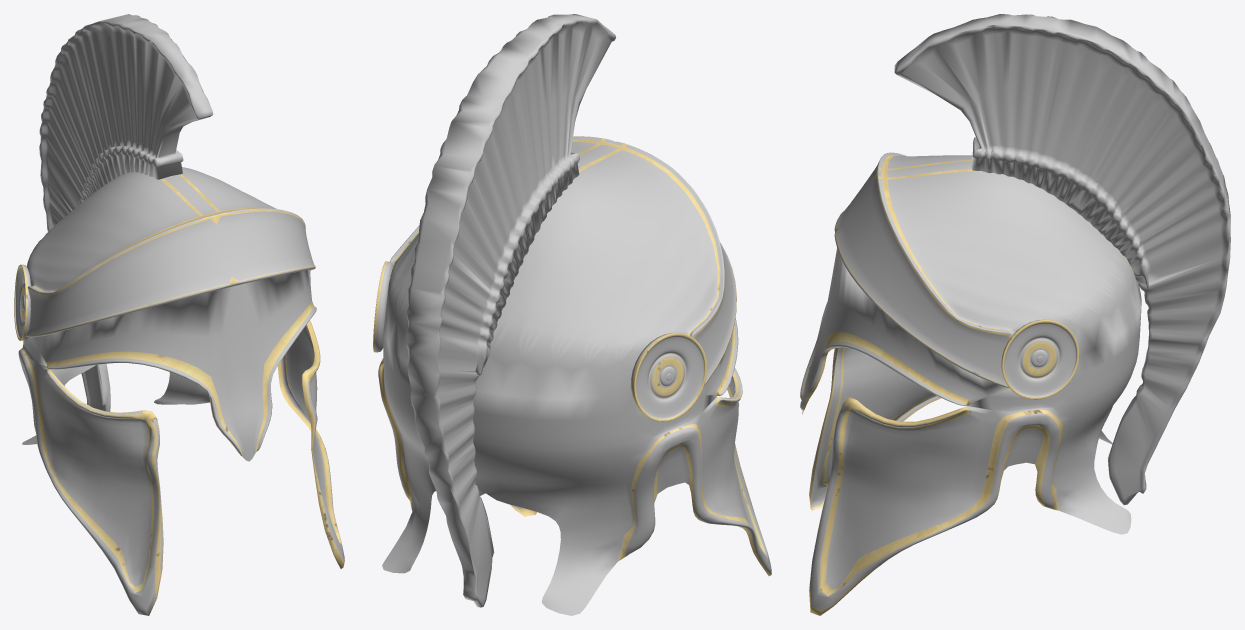
Rendered from RomeHelmet2.fbx.
The picture shows the model from 3 angles, left to right: view 1: azimuth 30°, elevation 25°; view 2: azimuth 150°, elevation 25°; view 3: azimuth 270°, elevation 25°; orthographic projection. The views are drawn at different scales.
Parts seen in each view (by area): view 1: Helmet_Low.003; view 2: Helmet_Low.003; view 3: Helmet_Low.003.
Boxes of the visible parts, box(x1,y1,x2,y2) form: Helmet_Low.003: box(14, 14, 344, 615); Helmet_Low.003: box(373, 14, 771, 615); Helmet_Low.003: box(800, 14, 1230, 615).
Bounding box in the file's own units: 192 × 340 × 245.
